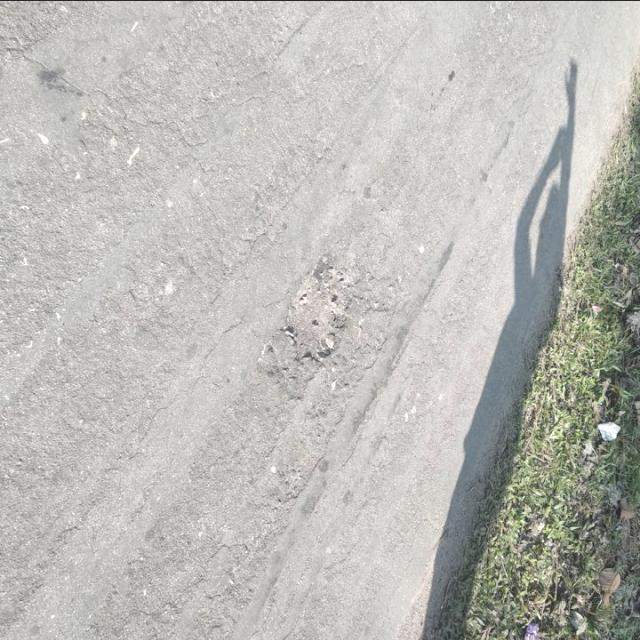pothole: (259, 248, 365, 396)
